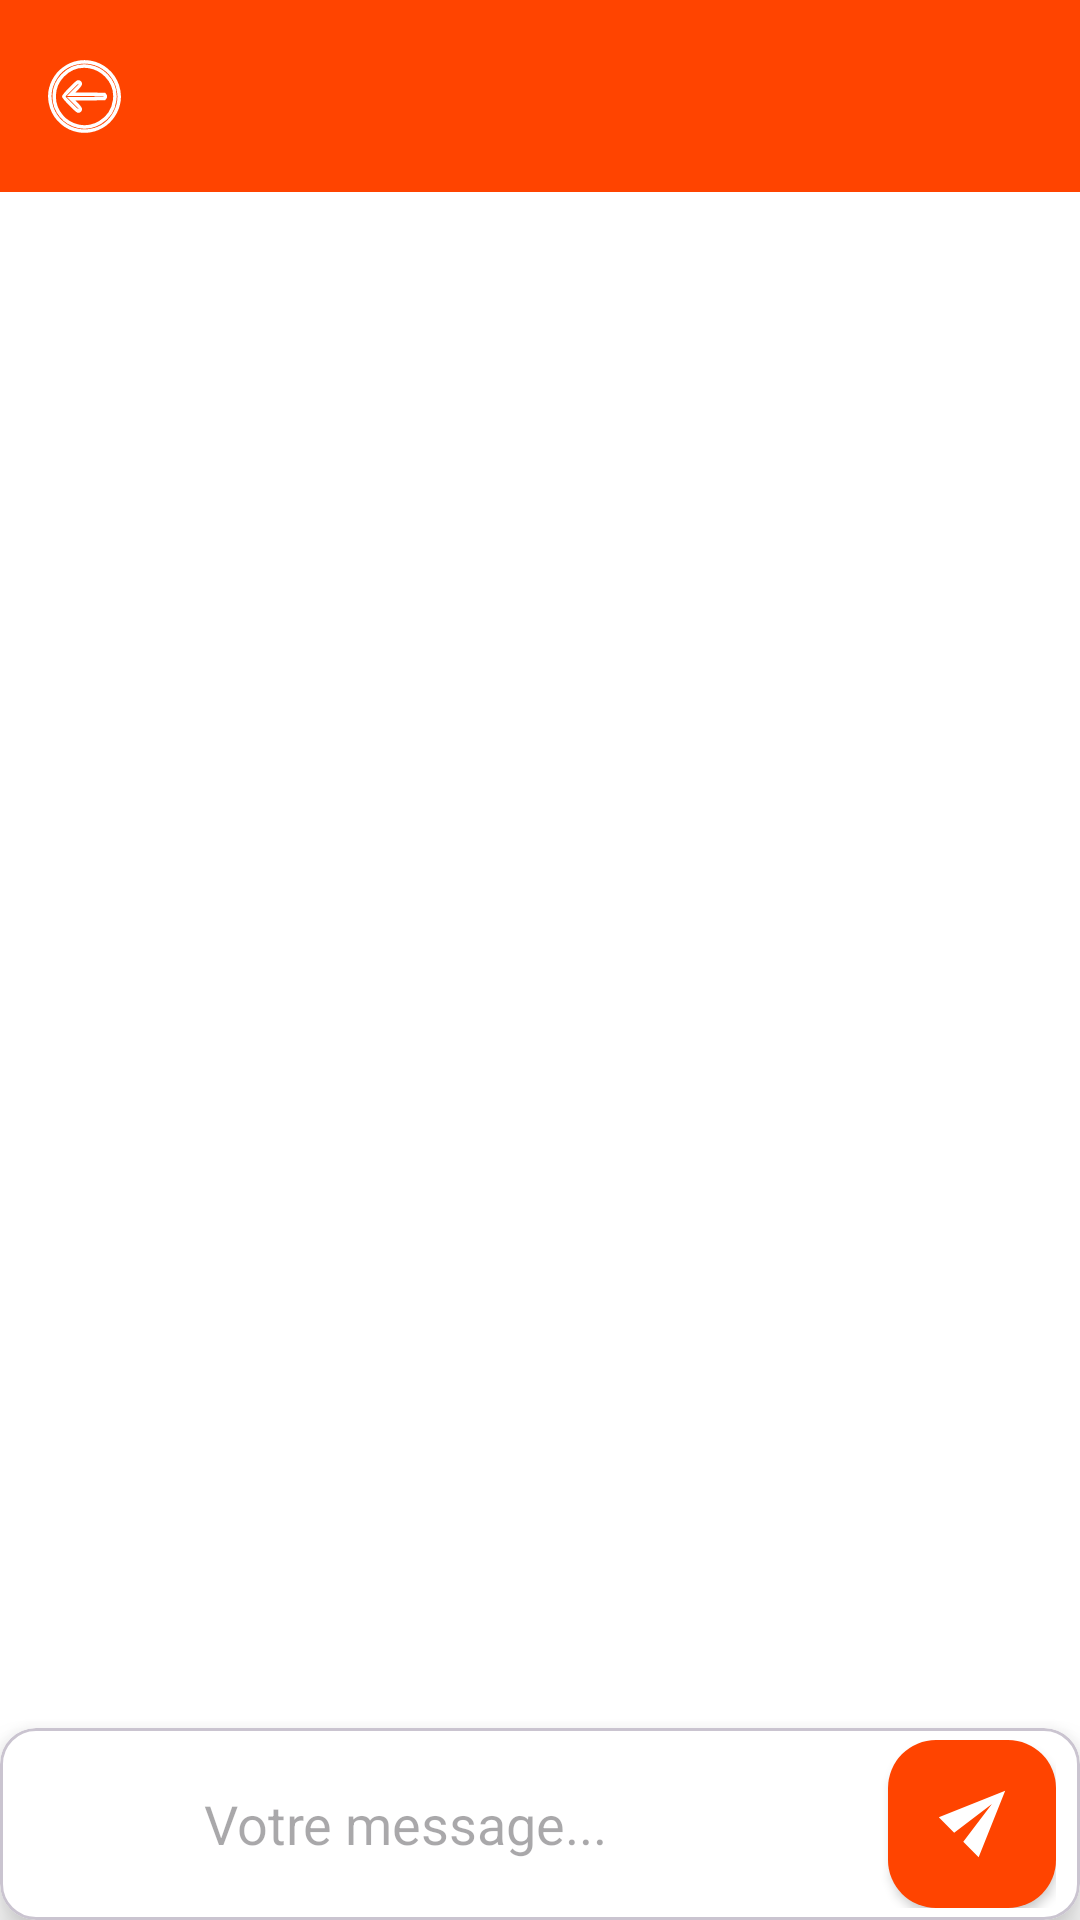

Named icons in this screenshot (1080*1920) and their bounding boxes, [x1=x1, y1=y1, x2=x2, y2=y2]:
send: [x1=888, y1=1740, x2=1056, y2=1908]
